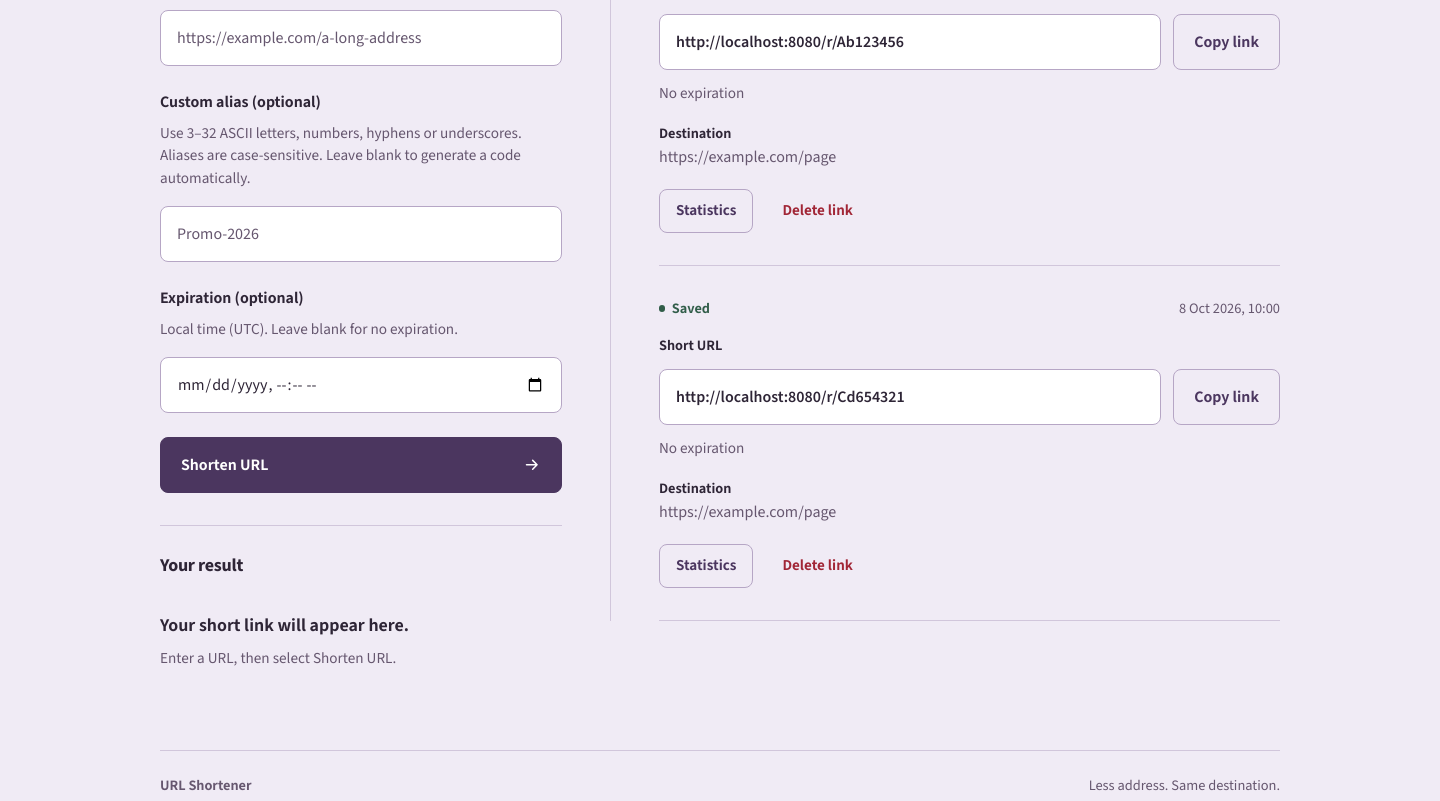
Test: copies the correct dashboard row with independent feedback and no extra requests
The width and height of the screenshot is (1440, 801).
(page scrolled)
Click the 2nd button "Copy link" at point(1227, 397), box [1173, 369, 1280, 425]
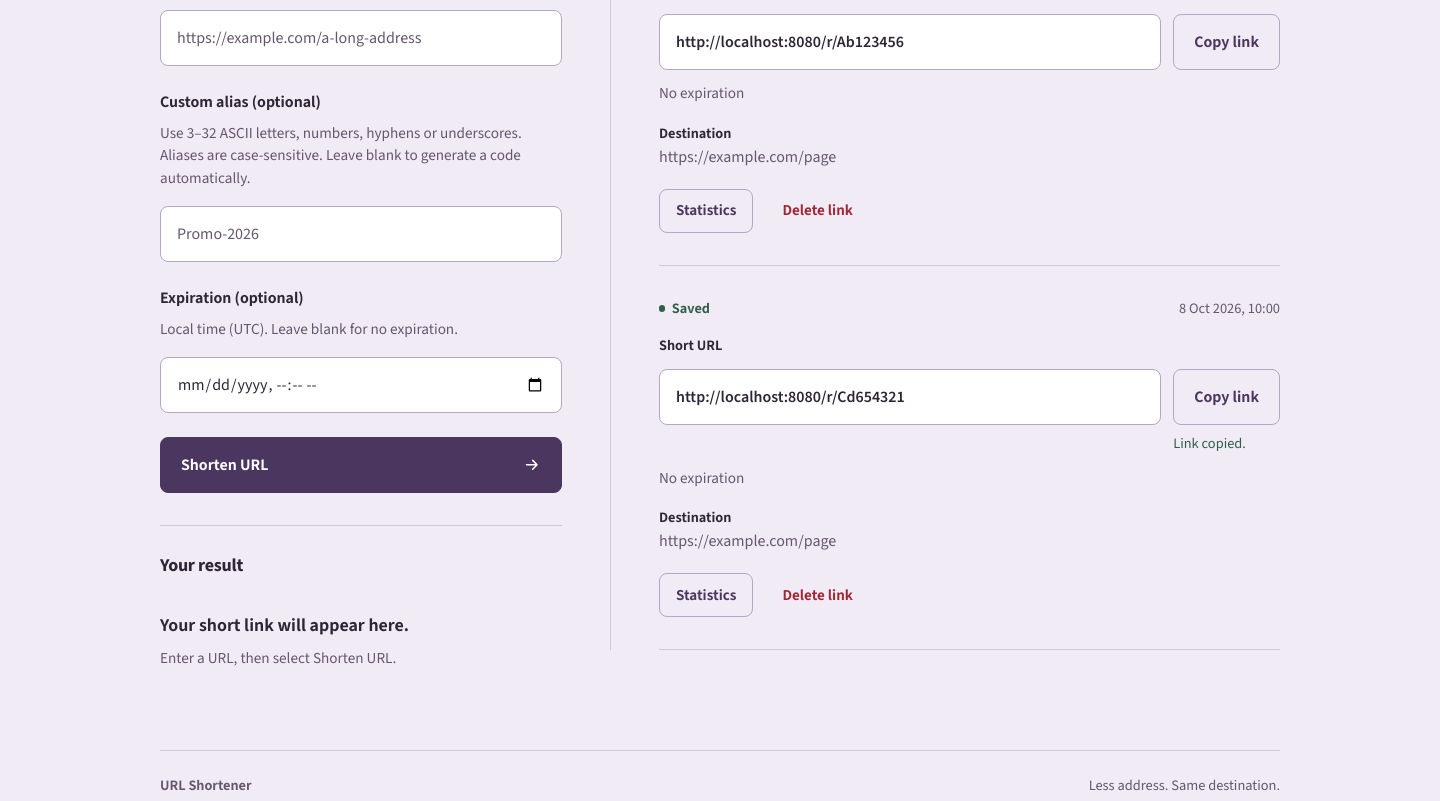
Result: the message reads "Link copied." at [1173, 434, 1246, 453]
